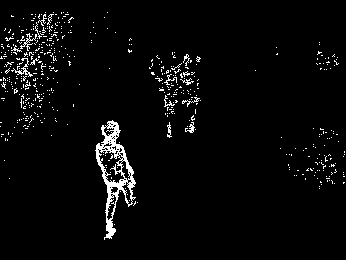person: (92, 120, 137, 242), (179, 53, 204, 136), (157, 62, 180, 139)
